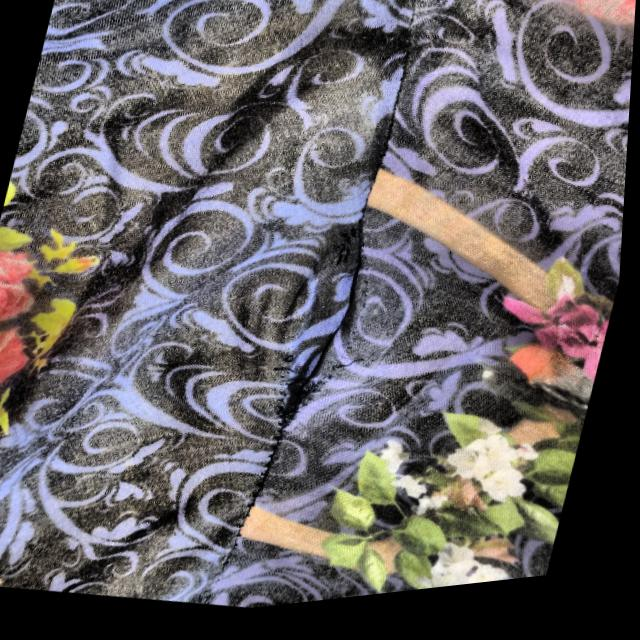seam: (241, 179, 426, 467)
